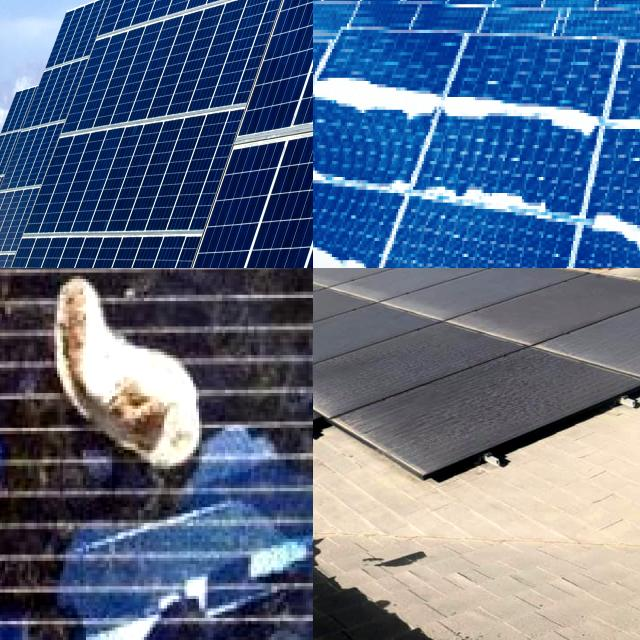bird: (18, 274, 224, 469), (0, 268, 29, 310)
crack: (149, 0, 313, 268)
dust: (351, 268, 638, 372), (313, 358, 518, 485), (313, 278, 384, 397), (313, 285, 367, 420), (313, 377, 377, 478), (313, 302, 370, 386), (313, 268, 392, 285)
panel: (450, 67, 591, 166), (313, 50, 441, 144), (313, 39, 439, 132), (420, 151, 542, 238), (313, 128, 374, 206), (313, 202, 378, 268), (387, 244, 547, 268), (313, 144, 374, 198), (593, 202, 640, 268), (313, 227, 386, 268), (599, 98, 640, 143), (313, 145, 344, 199), (313, 67, 349, 103), (313, 82, 328, 125), (313, 25, 343, 44), (313, 86, 332, 113)
